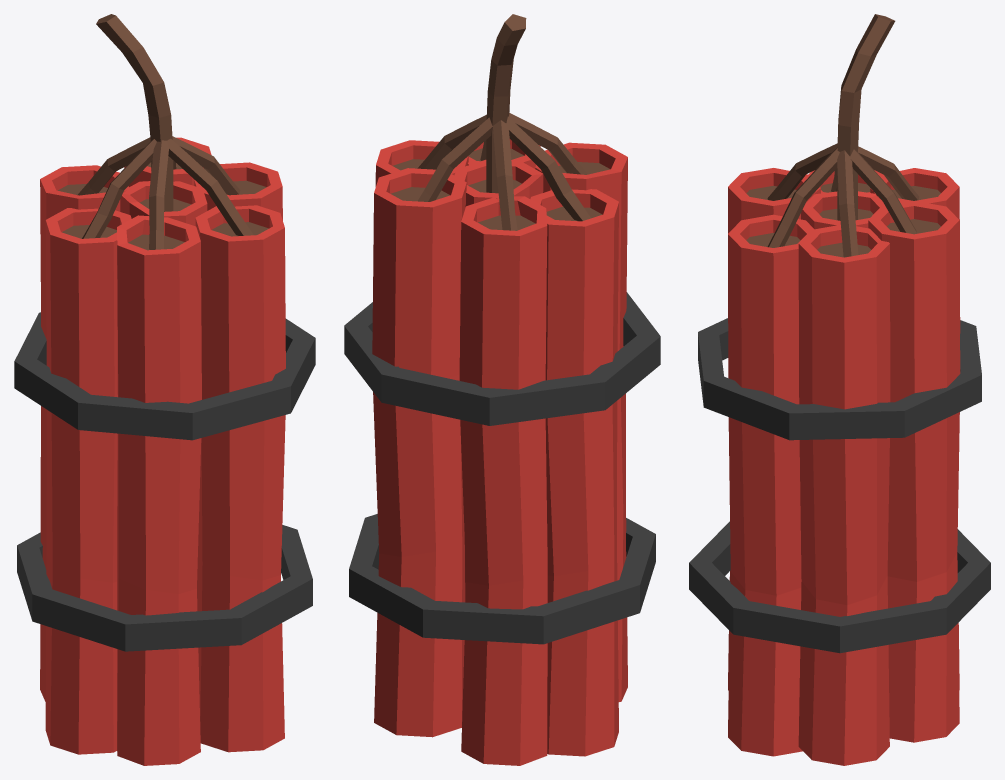
File: Dynamite_Element.fbx
3 views of the same model, side by side, from view 1: azimuth 30°, elevation 25°; view 2: azimuth 150°, elevation 25°; view 3: azimuth 270°, elevation 25° (orthographic). The views are drawn at different scales.
Parts seen in each view (by area): view 1: Cylinder.039; view 2: Cylinder.039; view 3: Cylinder.039.
Boxes of the visible parts, <box> form: Cylinder.039: <box>14,14,315,765</box>; Cylinder.039: <box>344,14,660,765</box>; Cylinder.039: <box>689,14,990,765</box>.
Bounding box in the file's own units: 13.32 × 33.51 × 13.32.
